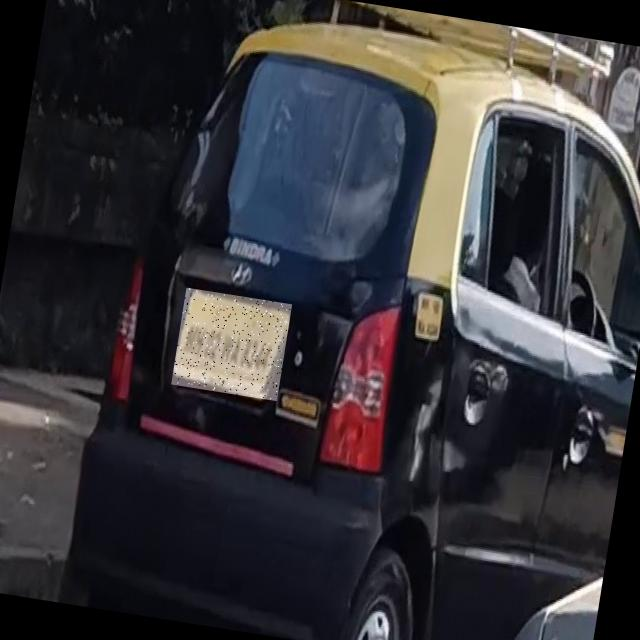Plate: (172, 289, 293, 403)
